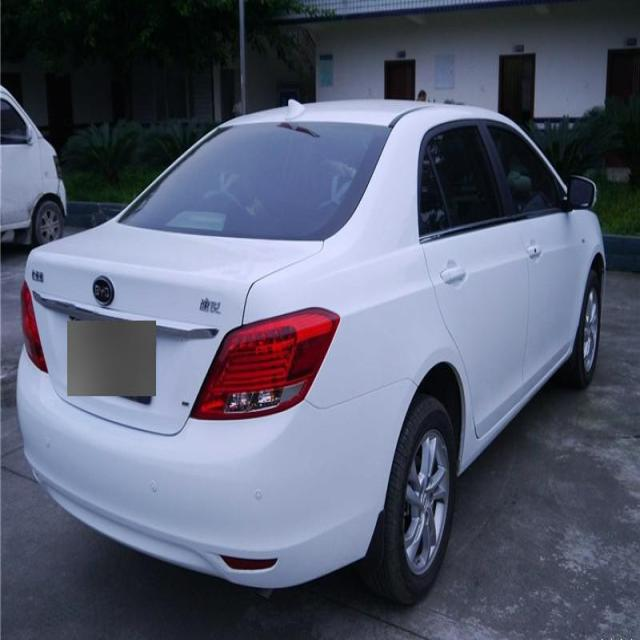back_glass: (113, 117, 396, 243)
back_left_side_light: (18, 277, 51, 373)
back_right_side_light: (186, 304, 342, 422)
door: (419, 121, 530, 428)
front_right_side_door: (479, 113, 581, 397)
front_right_side_mirror: (561, 169, 600, 216)
rear_bumper: (15, 341, 422, 591)
wheel: (360, 395, 458, 606), (562, 263, 602, 392)
